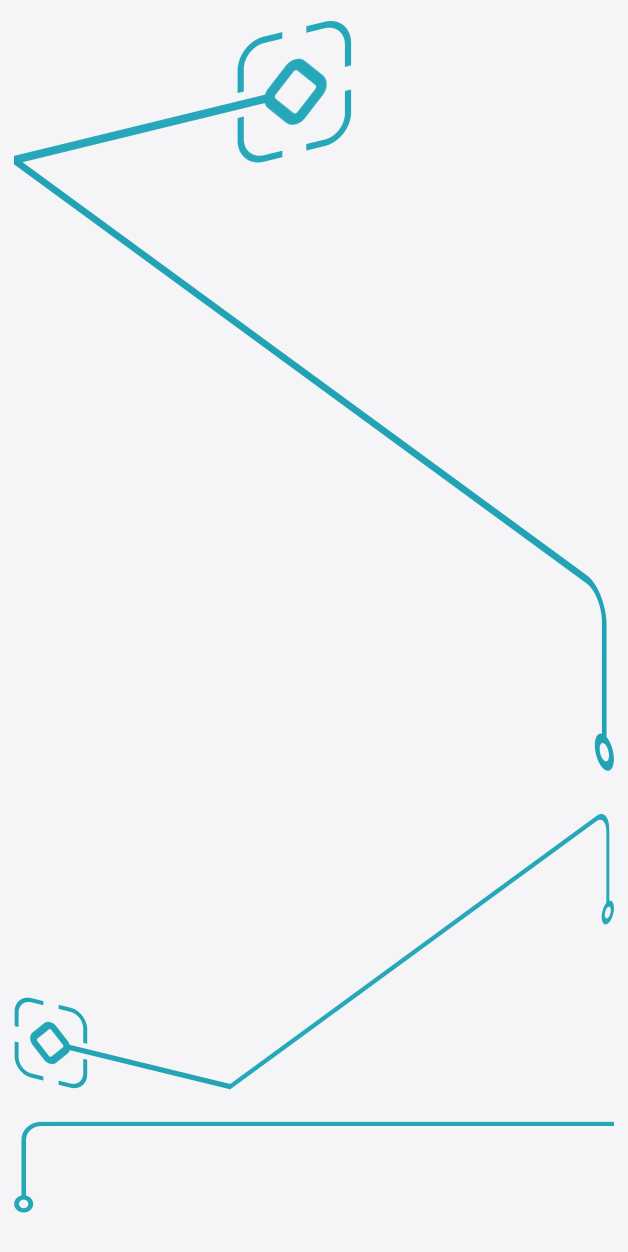
Rendered from 11_3_cl_inactive.glb.
3 renders of one model, top to bottom at view 1: azimuth 30°, elevation 25°; view 2: azimuth 150°, elevation 25°; view 3: azimuth 270°, elevation 25°, orthographic. The views are drawn at different scales.
Visible parts, largest first — view 1: 11_3_cl_inactive; view 2: 11_3_cl_inactive; view 3: 11_3_cl_inactive.
Part boxes in pixels (x1=…): 11_3_cl_inactive: x1=14, y1=21, x2=613, y2=770; 11_3_cl_inactive: x1=14, y1=814, x2=613, y2=1088; 11_3_cl_inactive: x1=14, y1=1121, x2=613, y2=1212.
Size of the model in its own units: 3.3 by 2.25 by 10.15.
Materials: 1 (1 with a texture image).
